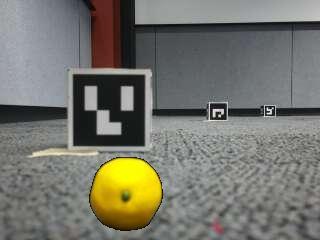lemon: (90, 156, 161, 229)
